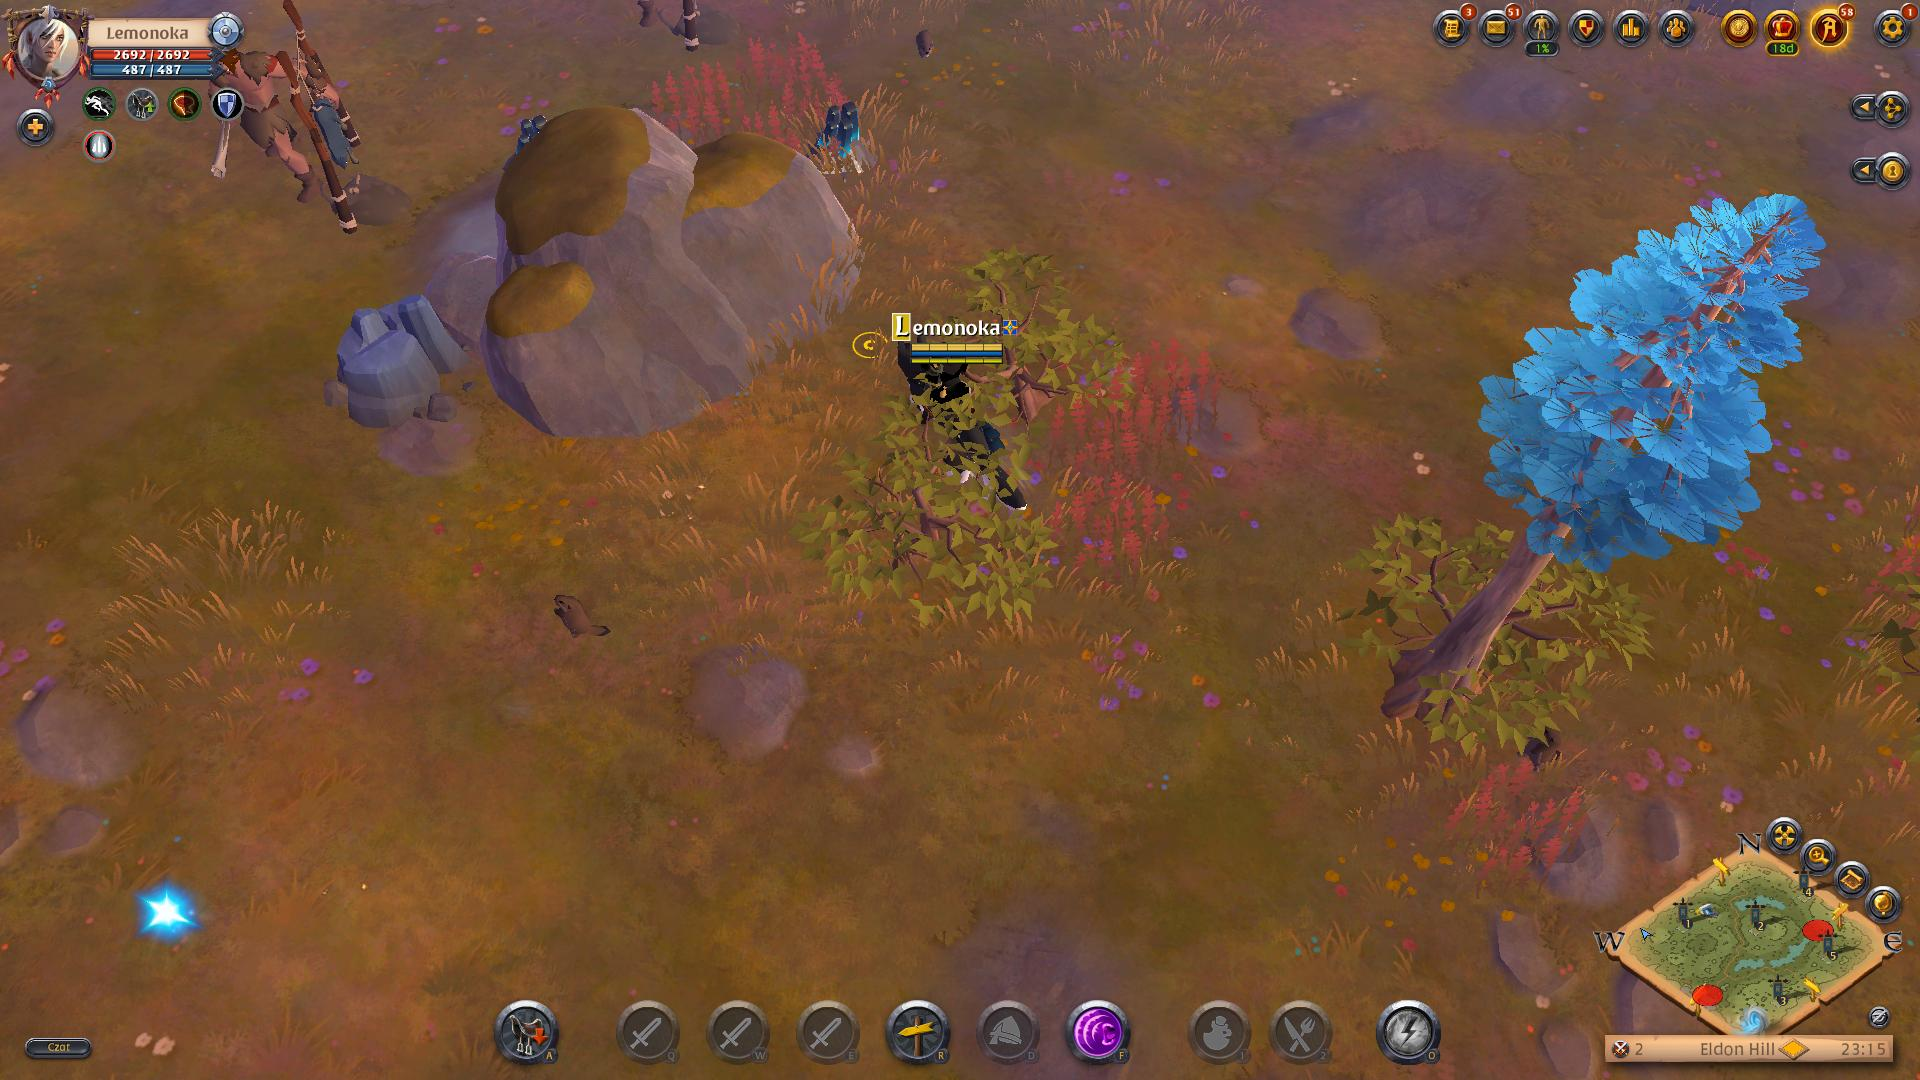ore tier 4: (332, 289, 473, 431), (803, 102, 884, 182)
wood tier 4: (1478, 187, 1826, 579)
